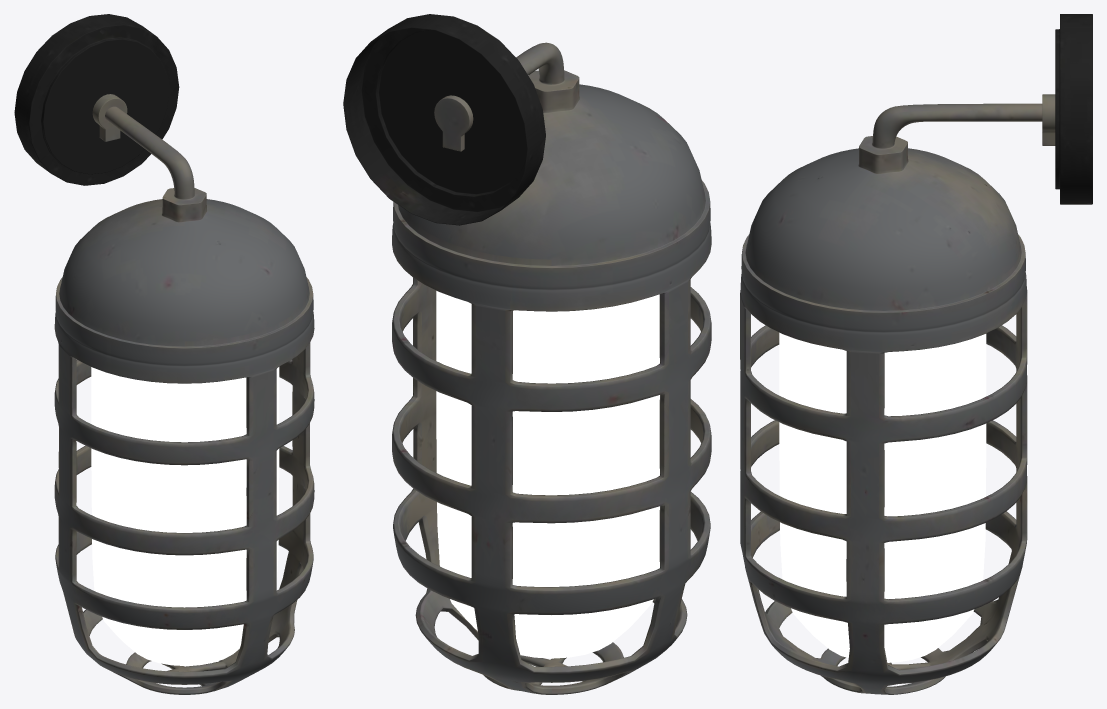
File: industrial_wall_light-opt.glb
The picture shows the model from 3 angles, left to right: view 1: azimuth 30°, elevation 25°; view 2: azimuth 150°, elevation 25°; view 3: azimuth 270°, elevation 25°; orthographic projection. The views are drawn at different scales.
Visible parts, largest first — view 1: Object_2, Object_4, Object_5; view 2: Object_2, Object_4, Object_5; view 3: Object_2, Object_4, Object_5.
Boxes of the visible parts, bbox=[...] form: Object_2: bbox=[54, 94, 314, 694]; Object_4: bbox=[91, 367, 279, 665]; Object_5: bbox=[14, 14, 179, 185]; Object_2: bbox=[392, 42, 711, 694]; Object_4: bbox=[436, 291, 659, 658]; Object_5: bbox=[343, 14, 545, 225]; Object_2: bbox=[740, 94, 1055, 694]; Object_4: bbox=[779, 332, 986, 662]; Object_5: bbox=[1055, 14, 1092, 204].
Size of the model in its own units: 0.1753 by 0.4377 by 0.2152.
Materials: 3 (3 with a texture image).
